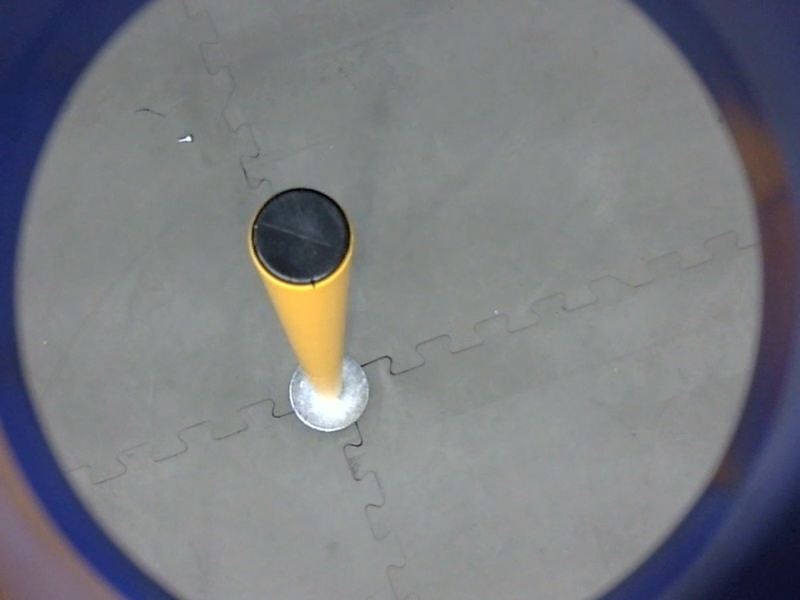tip: (241, 181, 360, 294)
